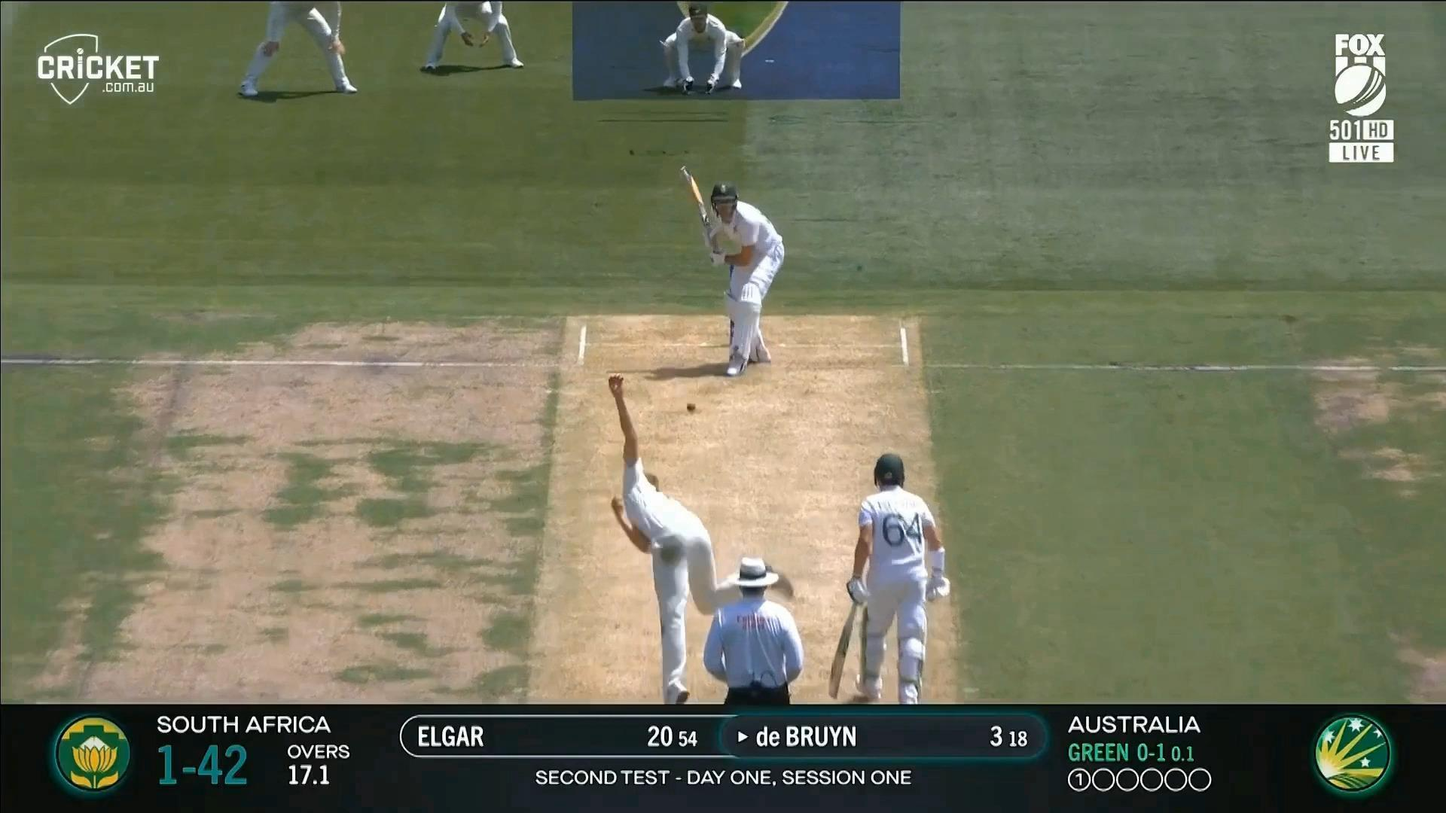BM 1: (680, 166, 785, 376)
BO: (608, 373, 796, 703)
